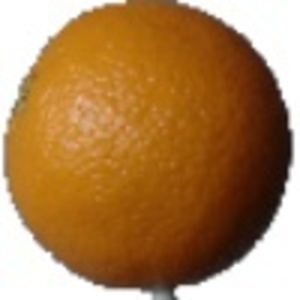laranja: (2, 2, 297, 287)
